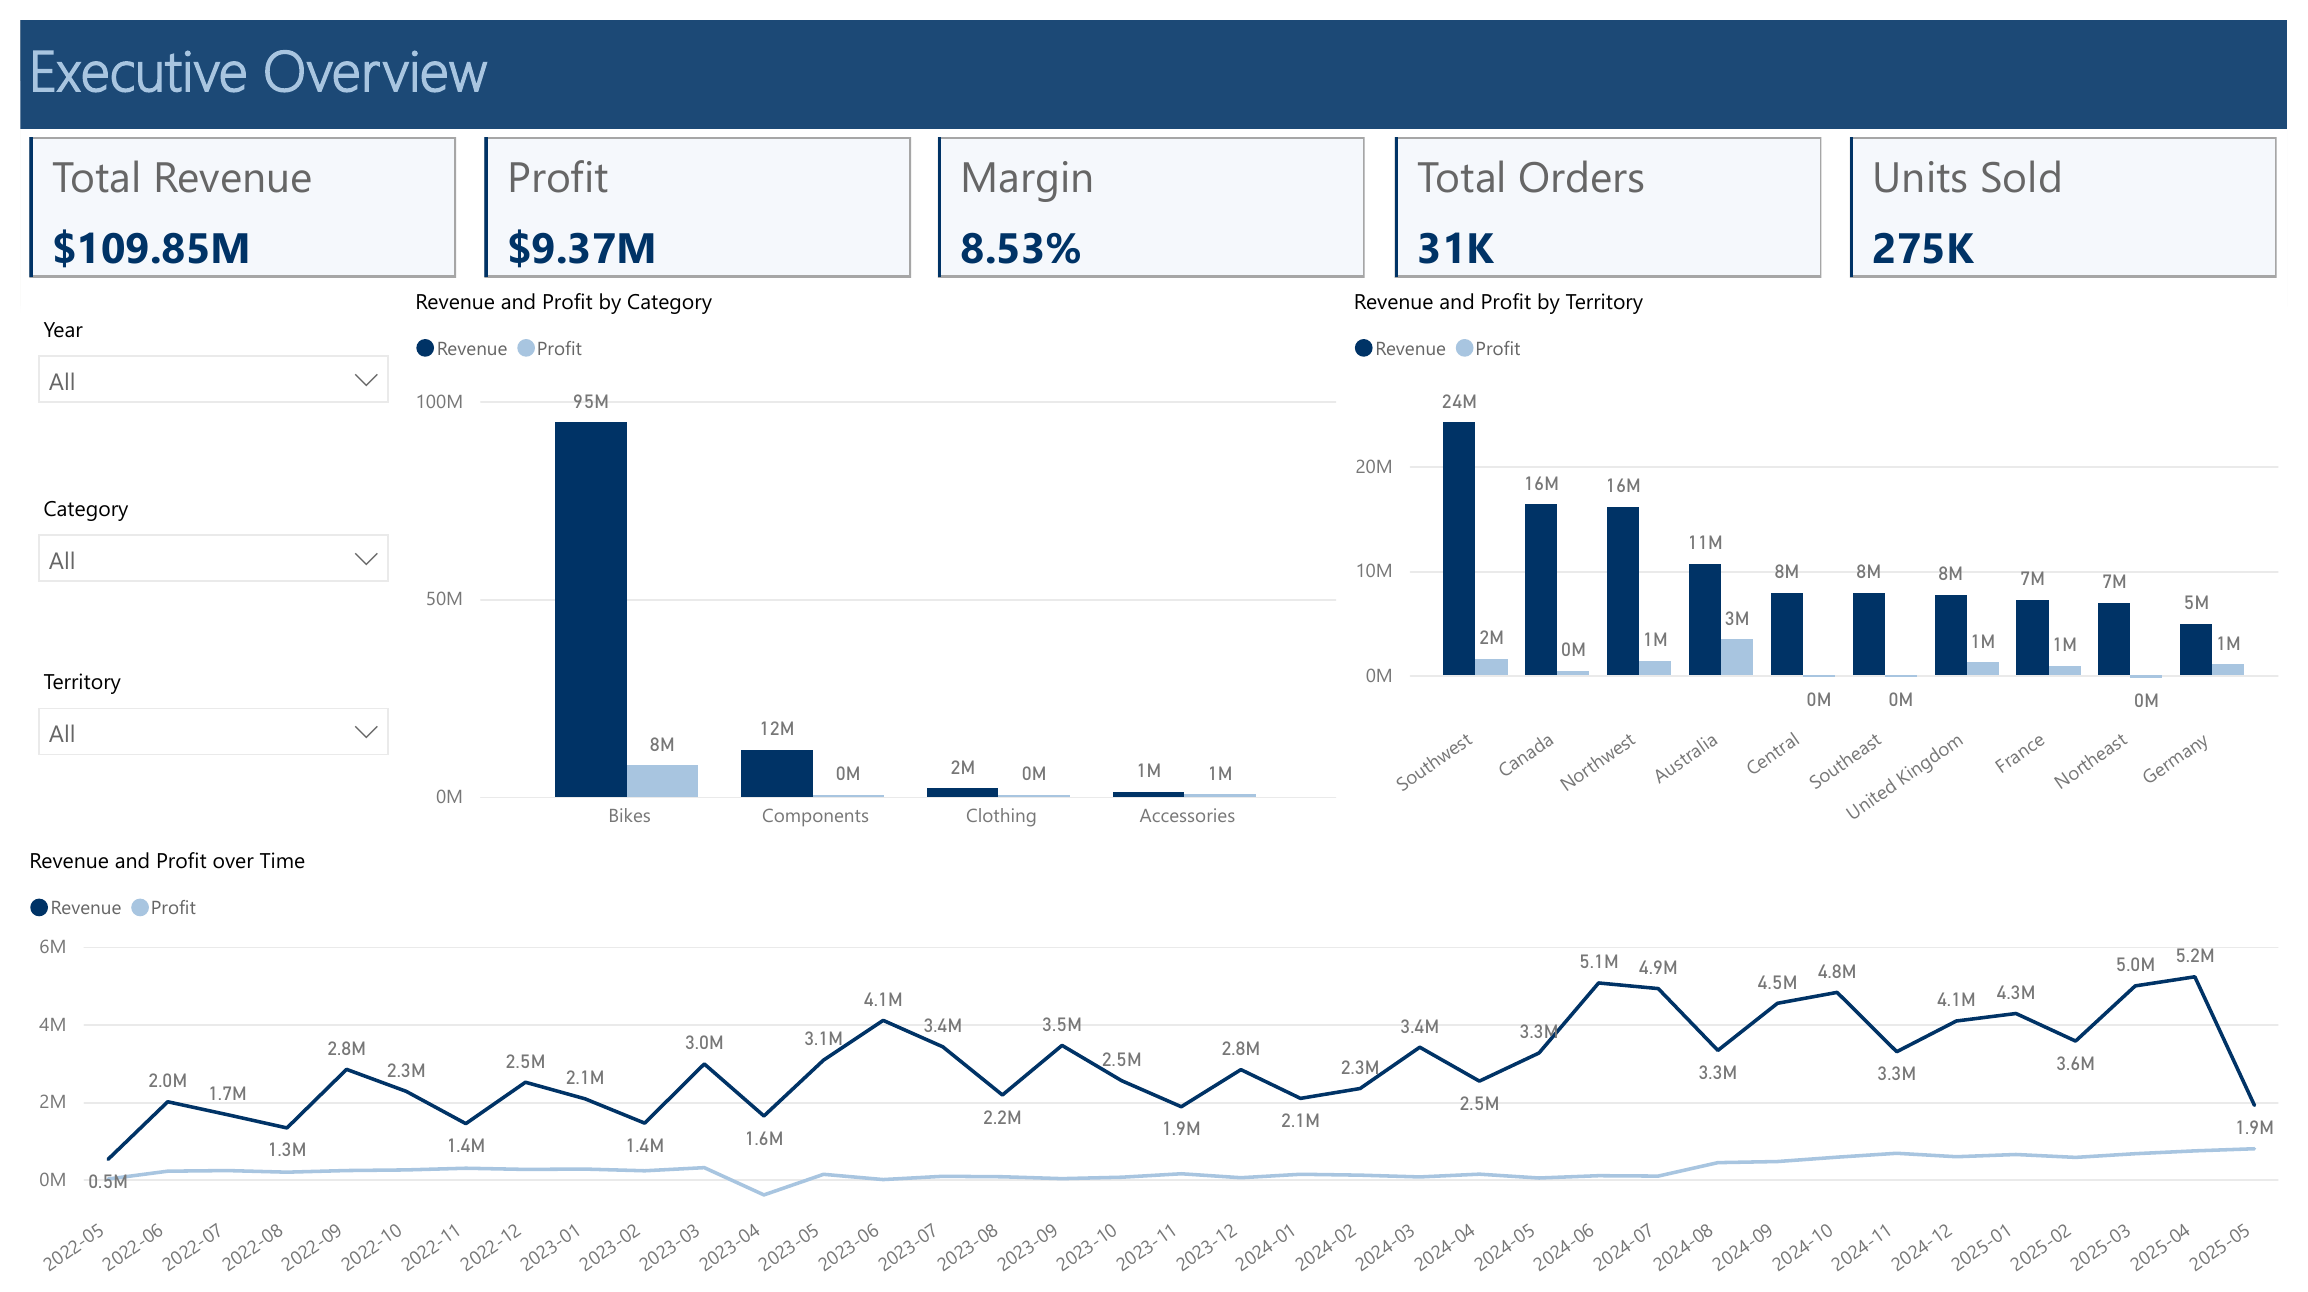

What the dashboard file says about the page in this screenshot:
{"tool":"powerbi","page":{"name":"Executive Overview","canvas":[1280,720],"ordinal":0},"visuals":[{"type":"cardVisual","fields":{"Data":["Measure.Profit"]},"box":[257.4,60.6,251.4,89.3],"z":0},{"type":"cardVisual","fields":{"Data":["Measure.TotalOrders"]},"box":[770.7,60.6,251.4,89.3],"z":1000},{"type":"cardVisual","fields":{"Data":["Measure.TotalUnitsSold"]},"box":[1028.1,60.6,251.4,89.3],"z":2000},{"type":"cardVisual","fields":{"Data":["Measure.Margin"]},"box":[513.3,60.6,251.4,89.3],"z":3000},{"type":"lineChart","title":"Revenue and Profit over Time","fields":{"Category":["DateTable.Year-Month"],"Y":["Measure.Revenue","Measure.Profit"]},"box":[0,466.4,1279.5,252.9],"z":4000},{"type":"clusteredColumnChart","title":"Revenue and Profit by Category","fields":{"Category":["Production ProductCategory.Name"],"Y":["Measure.Revenue","Measure.Profit"]},"box":[218,149.9,530,316.5],"z":5000},{"type":"clusteredColumnChart","title":"Revenue and Profit by Territory","fields":{"Category":["Sales SalesTerritory.Name"],"Y":["Measure.Revenue","Measure.Profit"]},"box":[748,149.9,531.5,316.5],"z":6000},{"type":"textbox","box":[0,0,1279.5,60.6],"z":7000},{"type":"slicer","fields":{"Values":["DateTable.Year"]},"box":[0,160.5,218,101.5],"z":8000},{"type":"slicer","fields":{"Values":["Production ProductCategory.Name"]},"box":[0,262,218,98.4],"z":9000},{"type":"slicer","fields":{"Values":["Sales SalesTerritory.Name"]},"box":[0,360.4,218,99.9],"z":10000},{"type":"cardVisual","fields":{"Data":["Measure.Revenue"]},"box":[0,60.6,251.4,89.3],"z":11000}]}

Visuals, with their boxes in screenshot pixels (x1, y1, x2, y2), scaled from the page's 1280x720 canvas onto the 2308x1292 screenshot:
cardVisual - Measure.Profit: [x1=464, y1=109, x2=917, y2=269]
cardVisual - Measure.TotalOrders: [x1=1390, y1=109, x2=1843, y2=269]
cardVisual - Measure.TotalUnitsSold: [x1=1854, y1=109, x2=2307, y2=269]
cardVisual - Measure.Margin: [x1=926, y1=109, x2=1379, y2=269]
"Revenue and Profit over Time" lineChart: [x1=0, y1=837, x2=2307, y2=1291]
"Revenue and Profit by Category" clusteredColumnChart: [x1=393, y1=269, x2=1349, y2=837]
"Revenue and Profit by Territory" clusteredColumnChart: [x1=1349, y1=269, x2=2307, y2=837]
textbox: [x1=0, y1=0, x2=2307, y2=109]
slicer - DateTable.Year: [x1=0, y1=288, x2=393, y2=470]
slicer - Production ProductCategory.Name: [x1=0, y1=470, x2=393, y2=647]
slicer - Sales SalesTerritory.Name: [x1=0, y1=647, x2=393, y2=826]
cardVisual - Measure.Revenue: [x1=0, y1=109, x2=453, y2=269]
